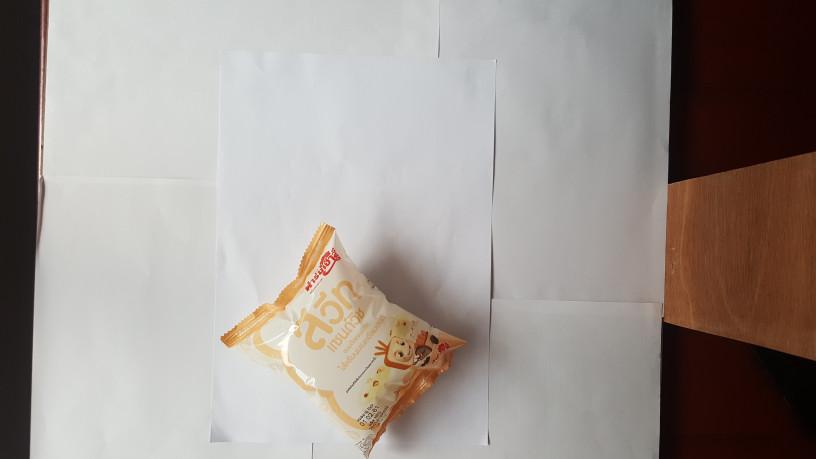farmhouse-sweetsandwich-almond: (201, 225, 473, 459)
